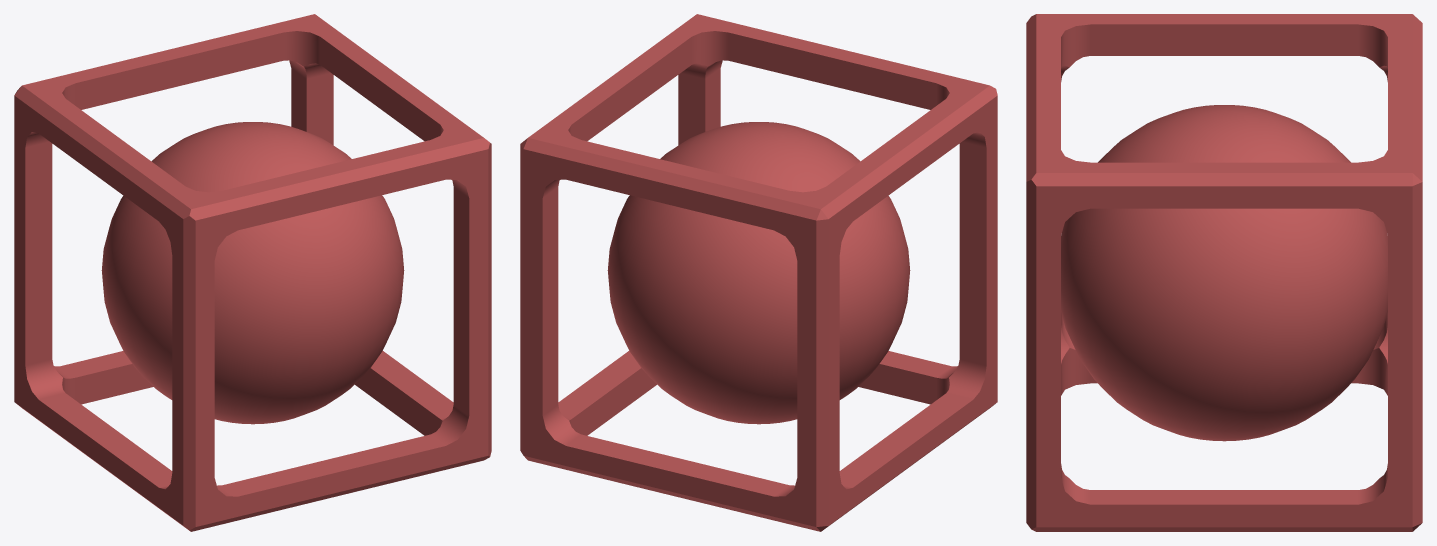
3 views of the same model, side by side, from view 1: azimuth 30°, elevation 25°; view 2: azimuth 150°, elevation 25°; view 3: azimuth 270°, elevation 25° (orthographic). The views are drawn at different scales.
Parts seen in each view (by area): view 1: color; view 2: color; view 3: color.
Part boxes in pixels (x1,y1,x2,y2): color: (14, 14, 491, 531); color: (520, 14, 997, 531); color: (1026, 14, 1422, 531).
Size of the model in its own units: 0.04 by 0.04 by 0.04.
